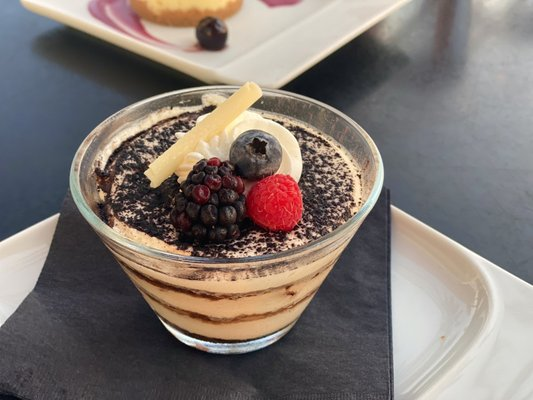sushi: (65, 81, 385, 353)
